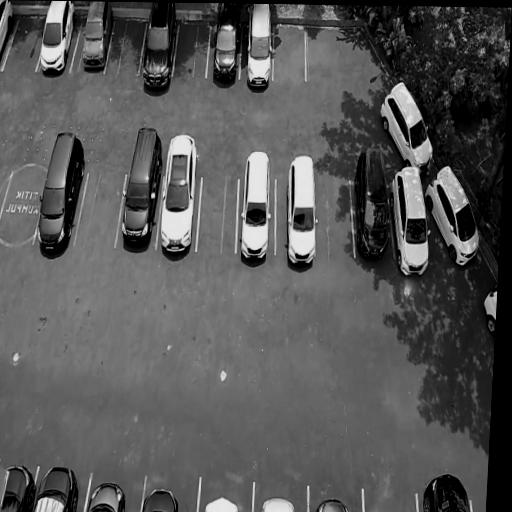Car: (422, 153, 488, 274), (34, 124, 88, 259), (154, 127, 200, 263), (373, 77, 436, 175), (117, 125, 165, 252), (350, 146, 392, 273), (388, 162, 432, 281), (235, 149, 271, 270), (136, 2, 180, 96), (283, 153, 316, 273), (33, 1, 78, 82), (74, 1, 115, 77), (244, 4, 275, 100), (209, 3, 242, 93), (417, 474, 475, 512), (35, 463, 79, 512), (0, 466, 35, 512), (480, 276, 498, 353), (84, 484, 128, 512), (142, 484, 182, 512), (0, 0, 15, 68), (201, 489, 242, 512), (315, 493, 355, 512), (262, 494, 296, 512)
Space Available: (194, 173, 237, 258), (75, 172, 126, 243), (0, 170, 45, 242), (316, 178, 355, 260), (104, 12, 146, 75), (4, 16, 47, 70), (173, 17, 209, 76), (273, 21, 305, 81), (363, 486, 418, 512)
